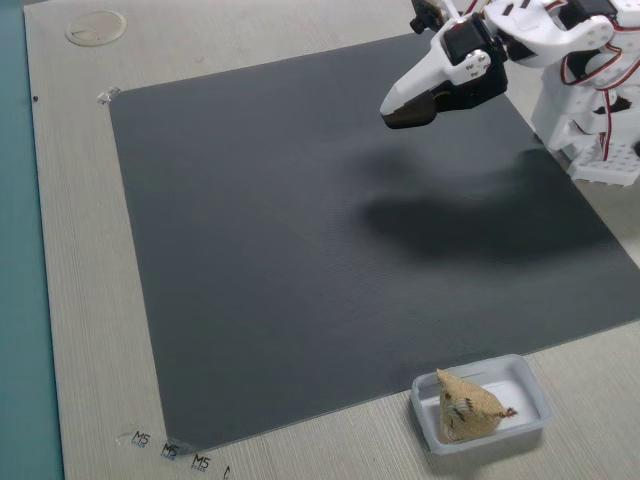gripper: (367, 16, 489, 124)
